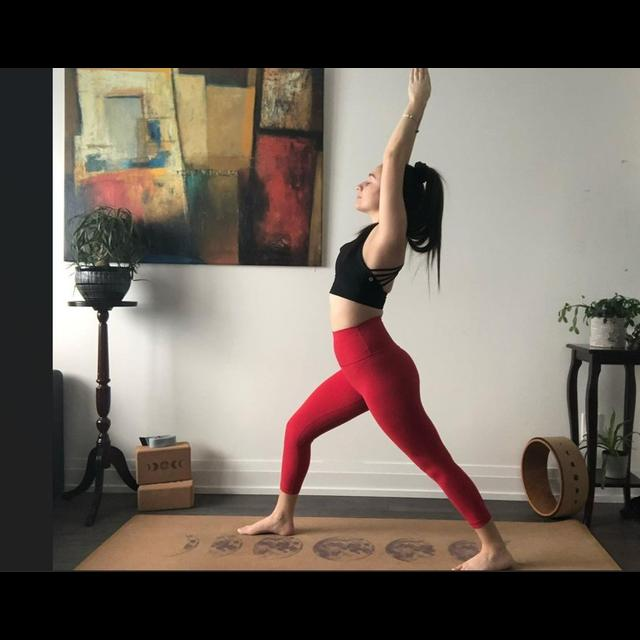Warrior_I: (226, 68, 521, 571)
